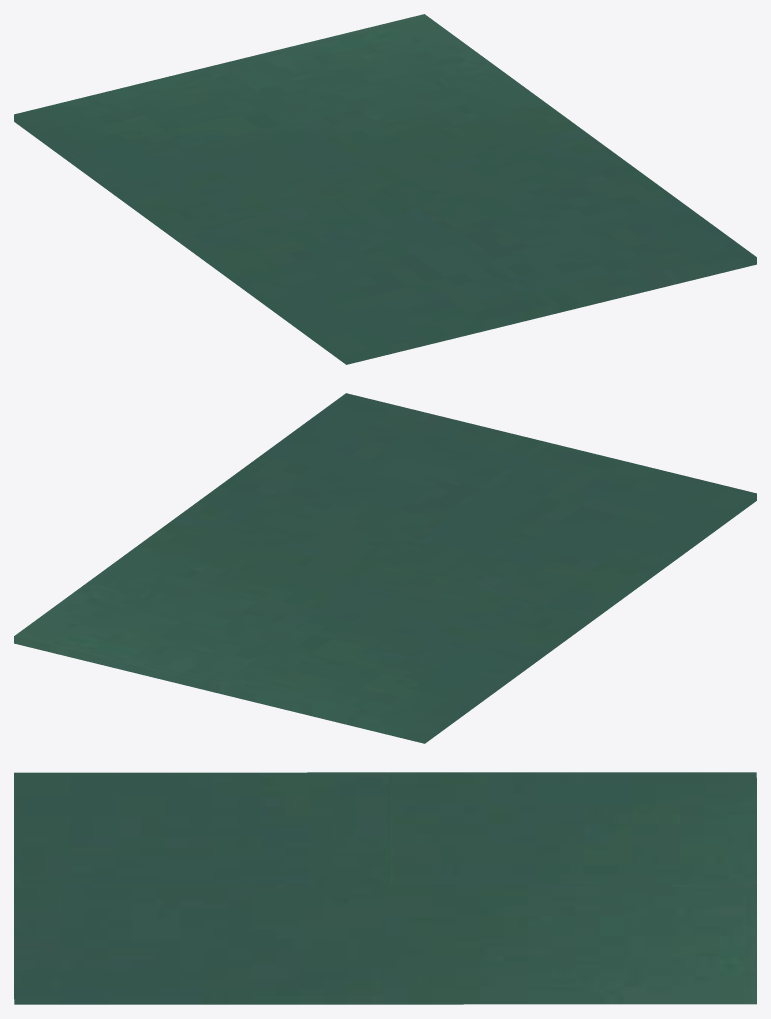
3 views of the same model, one above another, from view 1: azimuth 30°, elevation 25°; view 2: azimuth 150°, elevation 25°; view 3: azimuth 270°, elevation 25° (orthographic). The views are drawn at different scales.
Visible parts, largest first — view 1: 30436272704370635613_0; view 2: 30436272704370635613_0; view 3: 30436272704370635613_0.
Part boxes in pixels (x1,y1,x2,y2): 30436272704370635613_0: (14,14,756,364); 30436272704370635613_0: (14,393,756,743); 30436272704370635613_0: (14,772,756,1004).
Bounding box in the file's own units: 27.32 × 0.4796 × 38.26.
1 material, 1 textured.
